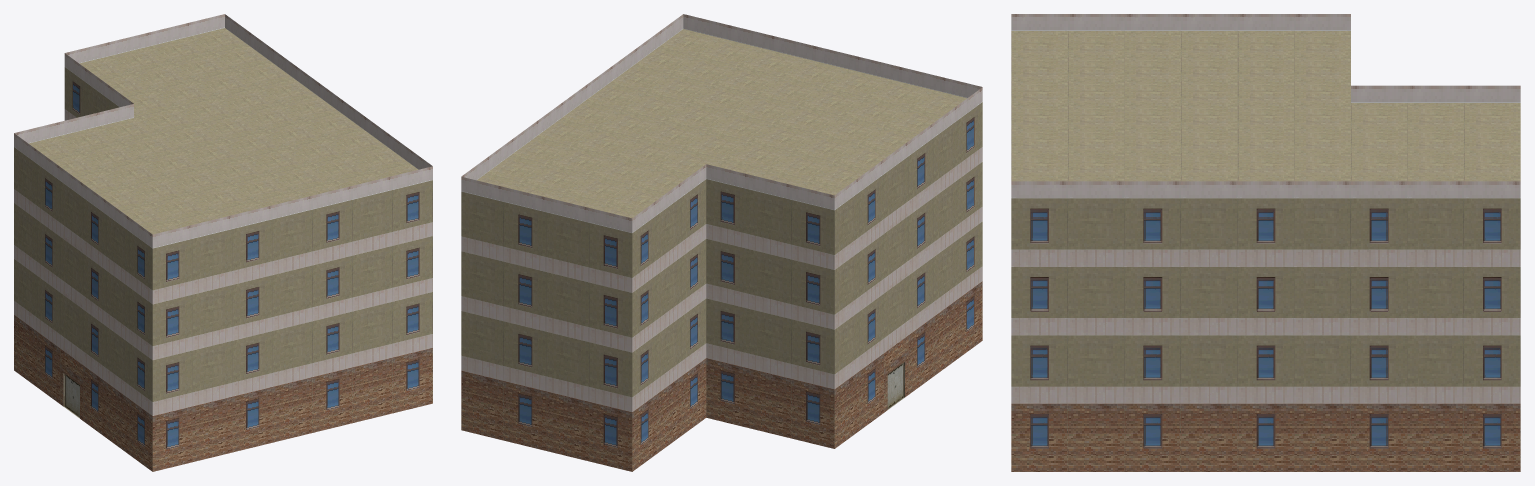
File: bld_flat_c.glb
3 renders of one model, left to right at view 1: azimuth 30°, elevation 25°; view 2: azimuth 150°, elevation 25°; view 3: azimuth 270°, elevation 25°, orthographic. The views are drawn at different scales.
Visible parts, largest first — view 1: bld_flat_c; view 2: bld_flat_c; view 3: bld_flat_c.
Boxes of the visible parts, x1,y1,x2,y2 form: bld_flat_c: (14, 14, 432, 471); bld_flat_c: (461, 14, 982, 471); bld_flat_c: (1011, 14, 1520, 471).
Bounding box in the file's own units: 21 × 17 × 27.
Materials: 1 (1 with a texture image).
